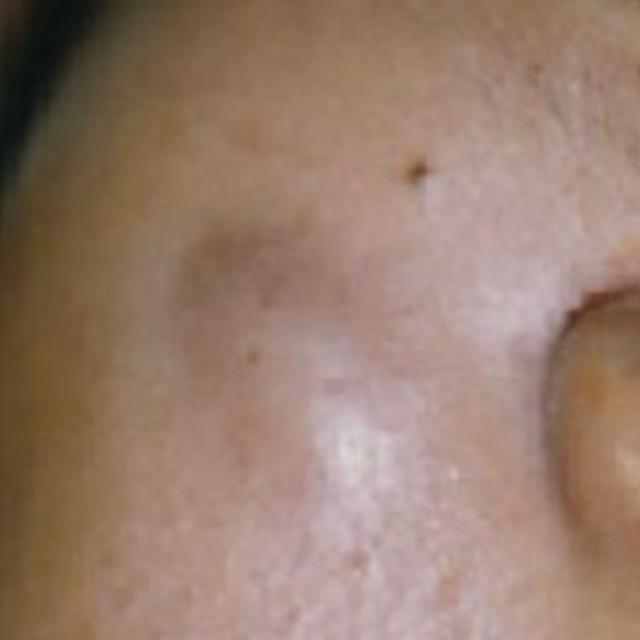nodule: (154, 205, 447, 601)
